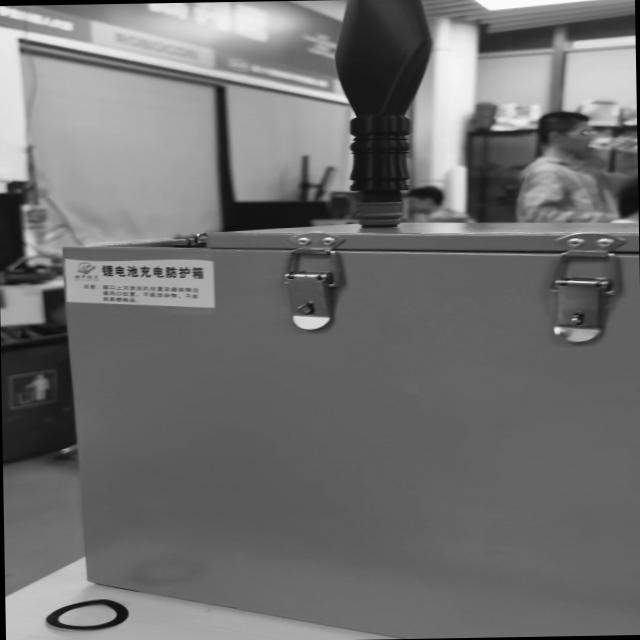base: (353, 201, 402, 227)
